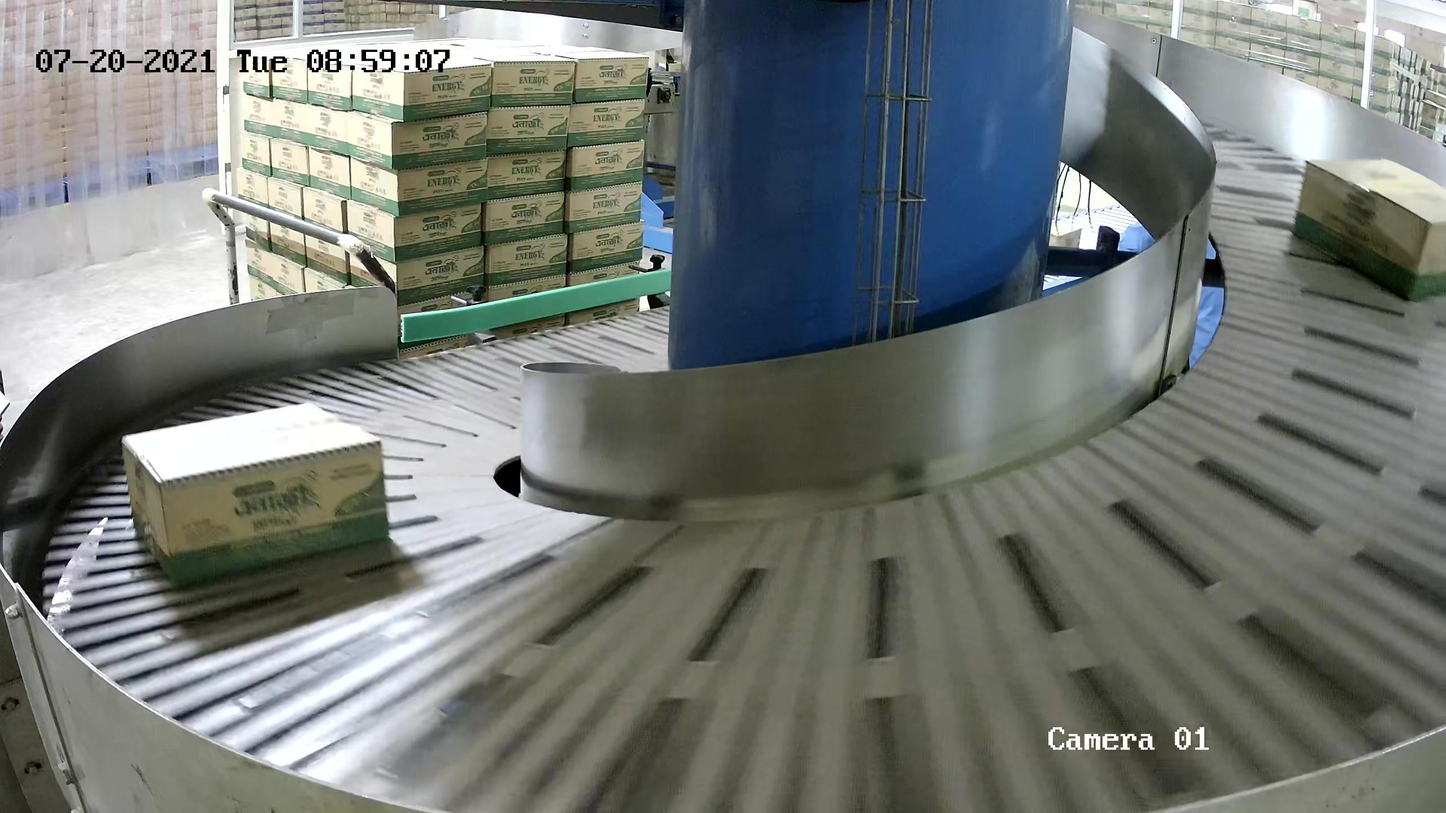Box: (120, 398, 392, 589), (1288, 153, 1446, 304), (228, 470, 229, 471)
